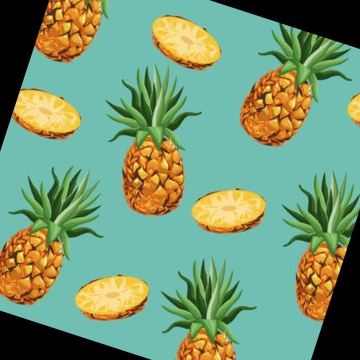Pineapple: (107, 61, 200, 214)
